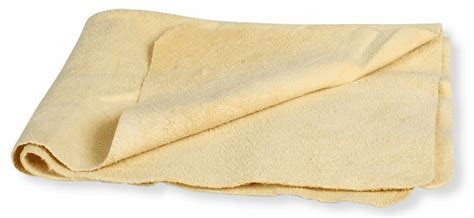gamuza: (12, 8, 452, 207)
